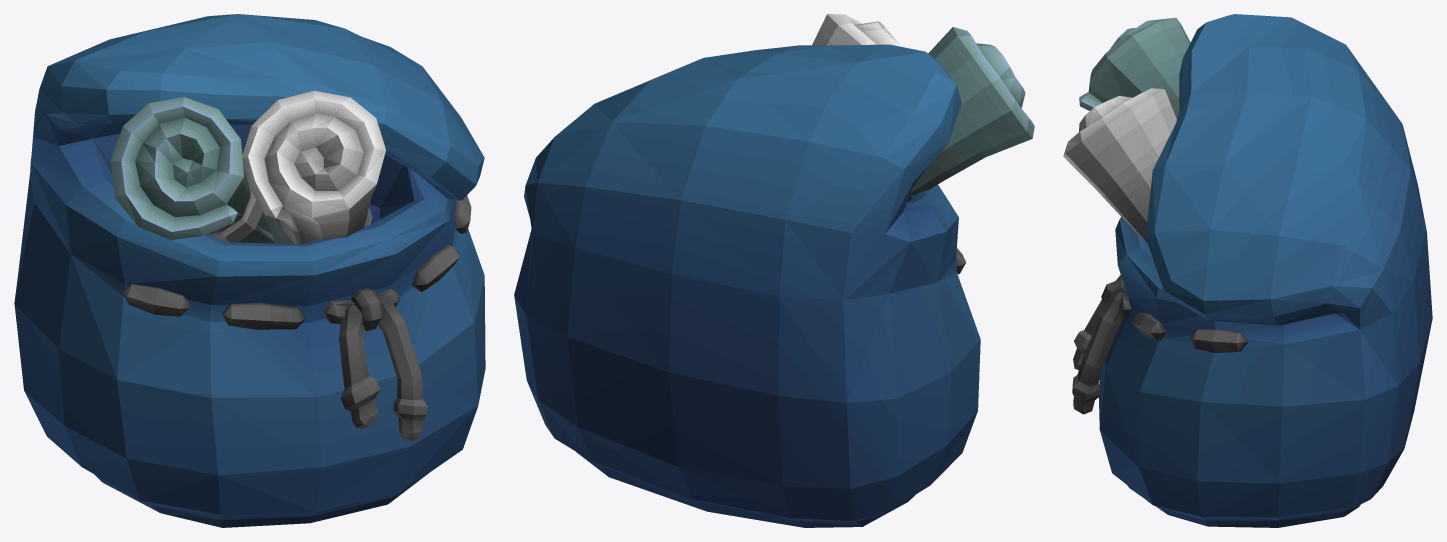
File: CharSkyKid_Prop_AnniversaryCarpet.glb
3 views of the same model, side by side, from view 1: azimuth 30°, elevation 25°; view 2: azimuth 150°, elevation 25°; view 3: azimuth 270°, elevation 25° (orthographic). The views are drawn at different scales.
Visible parts, largest first — view 1: CharSkyKid_Prop_AnniversaryCarpet; view 2: CharSkyKid_Prop_AnniversaryCarpet; view 3: CharSkyKid_Prop_AnniversaryCarpet.
Part boxes in pixels (bbox=[...]): CharSkyKid_Prop_AnniversaryCarpet: bbox=[14, 14, 485, 527]; CharSkyKid_Prop_AnniversaryCarpet: bbox=[514, 14, 1034, 527]; CharSkyKid_Prop_AnniversaryCarpet: bbox=[1063, 14, 1432, 527].
Bounding box in the file's own units: 3.51 × 3.66 × 3.08.
1 material, 1 textured.
